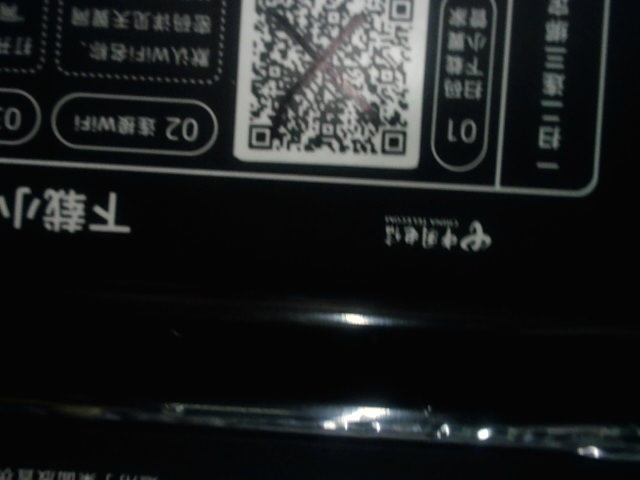AB_ChinaTelecom: (381, 207, 497, 255)
